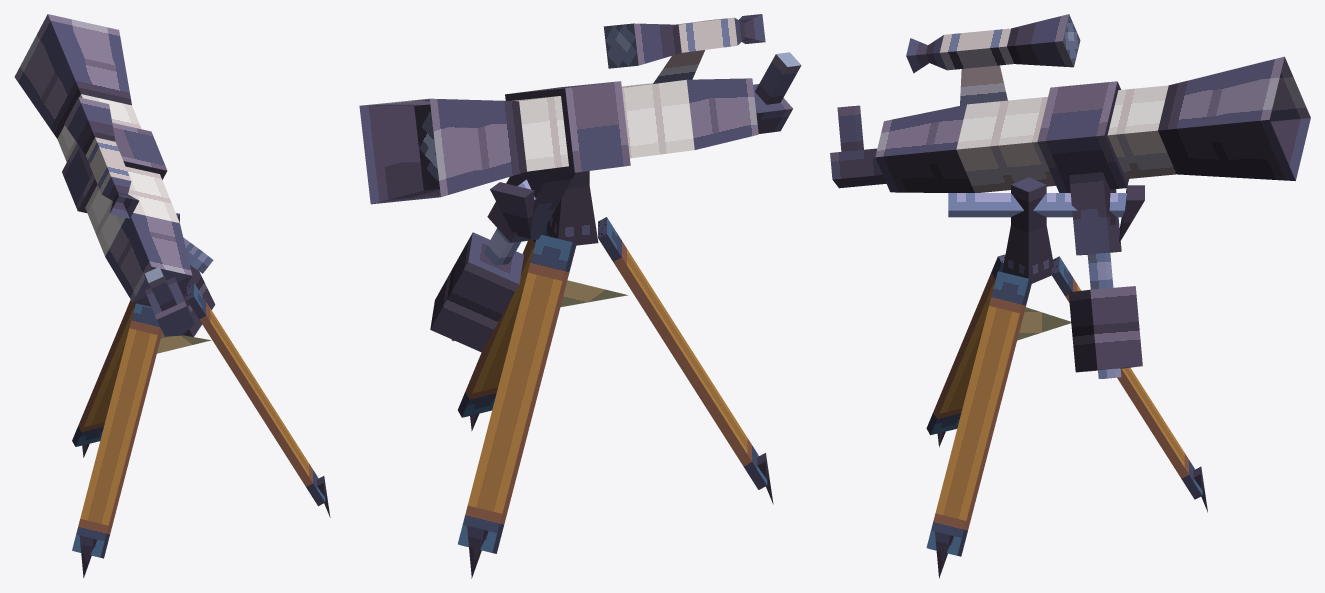
The model's file is telescope.fbx.
3 renders of one model, left to right at view 1: azimuth 30°, elevation 25°; view 2: azimuth 150°, elevation 25°; view 3: azimuth 270°, elevation 25°, orthographic. The views are drawn at different scales.
Parts seen in each view (by area): view 1: Telescope; view 2: Telescope; view 3: Telescope.
Boxes of the visible parts, x1,y1,x2,y2 form: Telescope: [14, 14, 330, 577]; Telescope: [359, 14, 801, 578]; Telescope: [830, 14, 1310, 578].
Size of the model in its own units: 111 by 179 by 168.
Materials: 1 (1 with a texture image).
